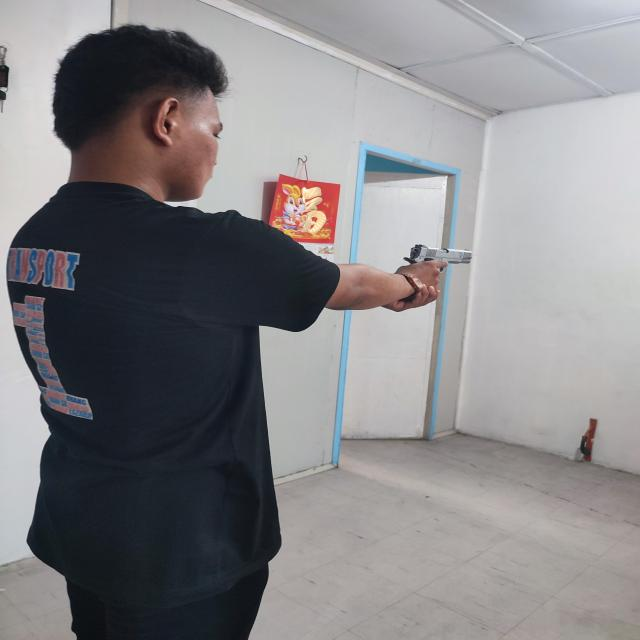pistol: (403, 244, 472, 273)
